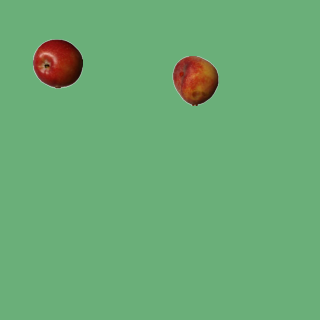Apple Braeburn: (32, 38, 82, 88)
Peach: (170, 55, 220, 105)
